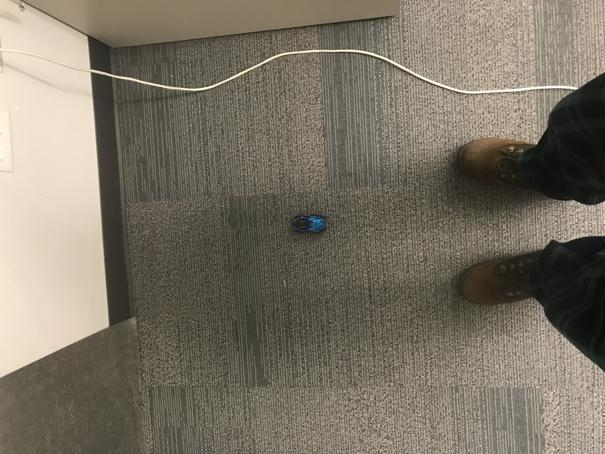Shock: (289, 213, 328, 235)
